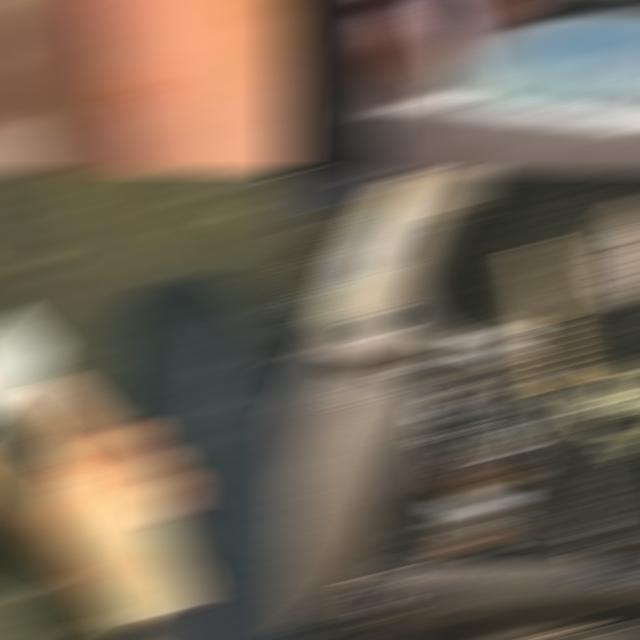Knife: (0, 318, 86, 466), (380, 2, 489, 109)
Knife_Handle: (0, 174, 208, 625), (276, 2, 490, 116)
